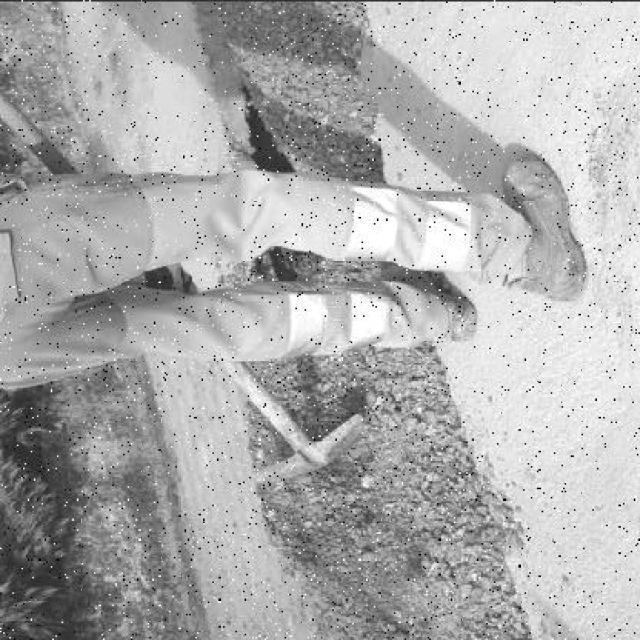shoes: (496, 140, 579, 308)
